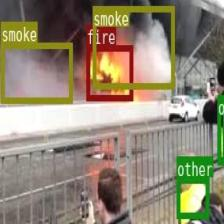fire: (86, 45, 132, 100)
smoke: (92, 5, 174, 88), (0, 42, 72, 102)
